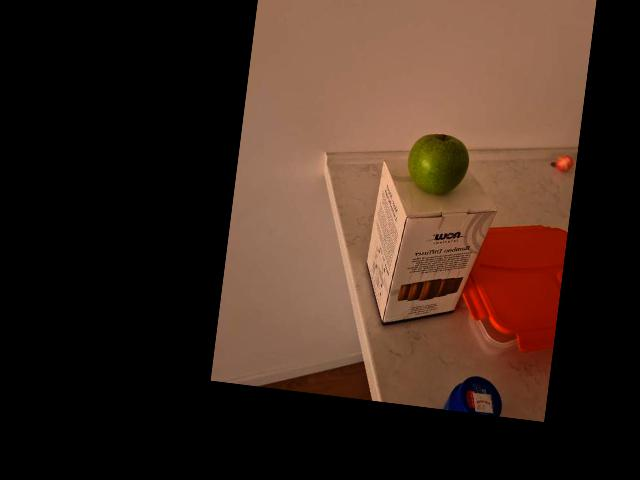apple: (405, 128, 466, 199)
